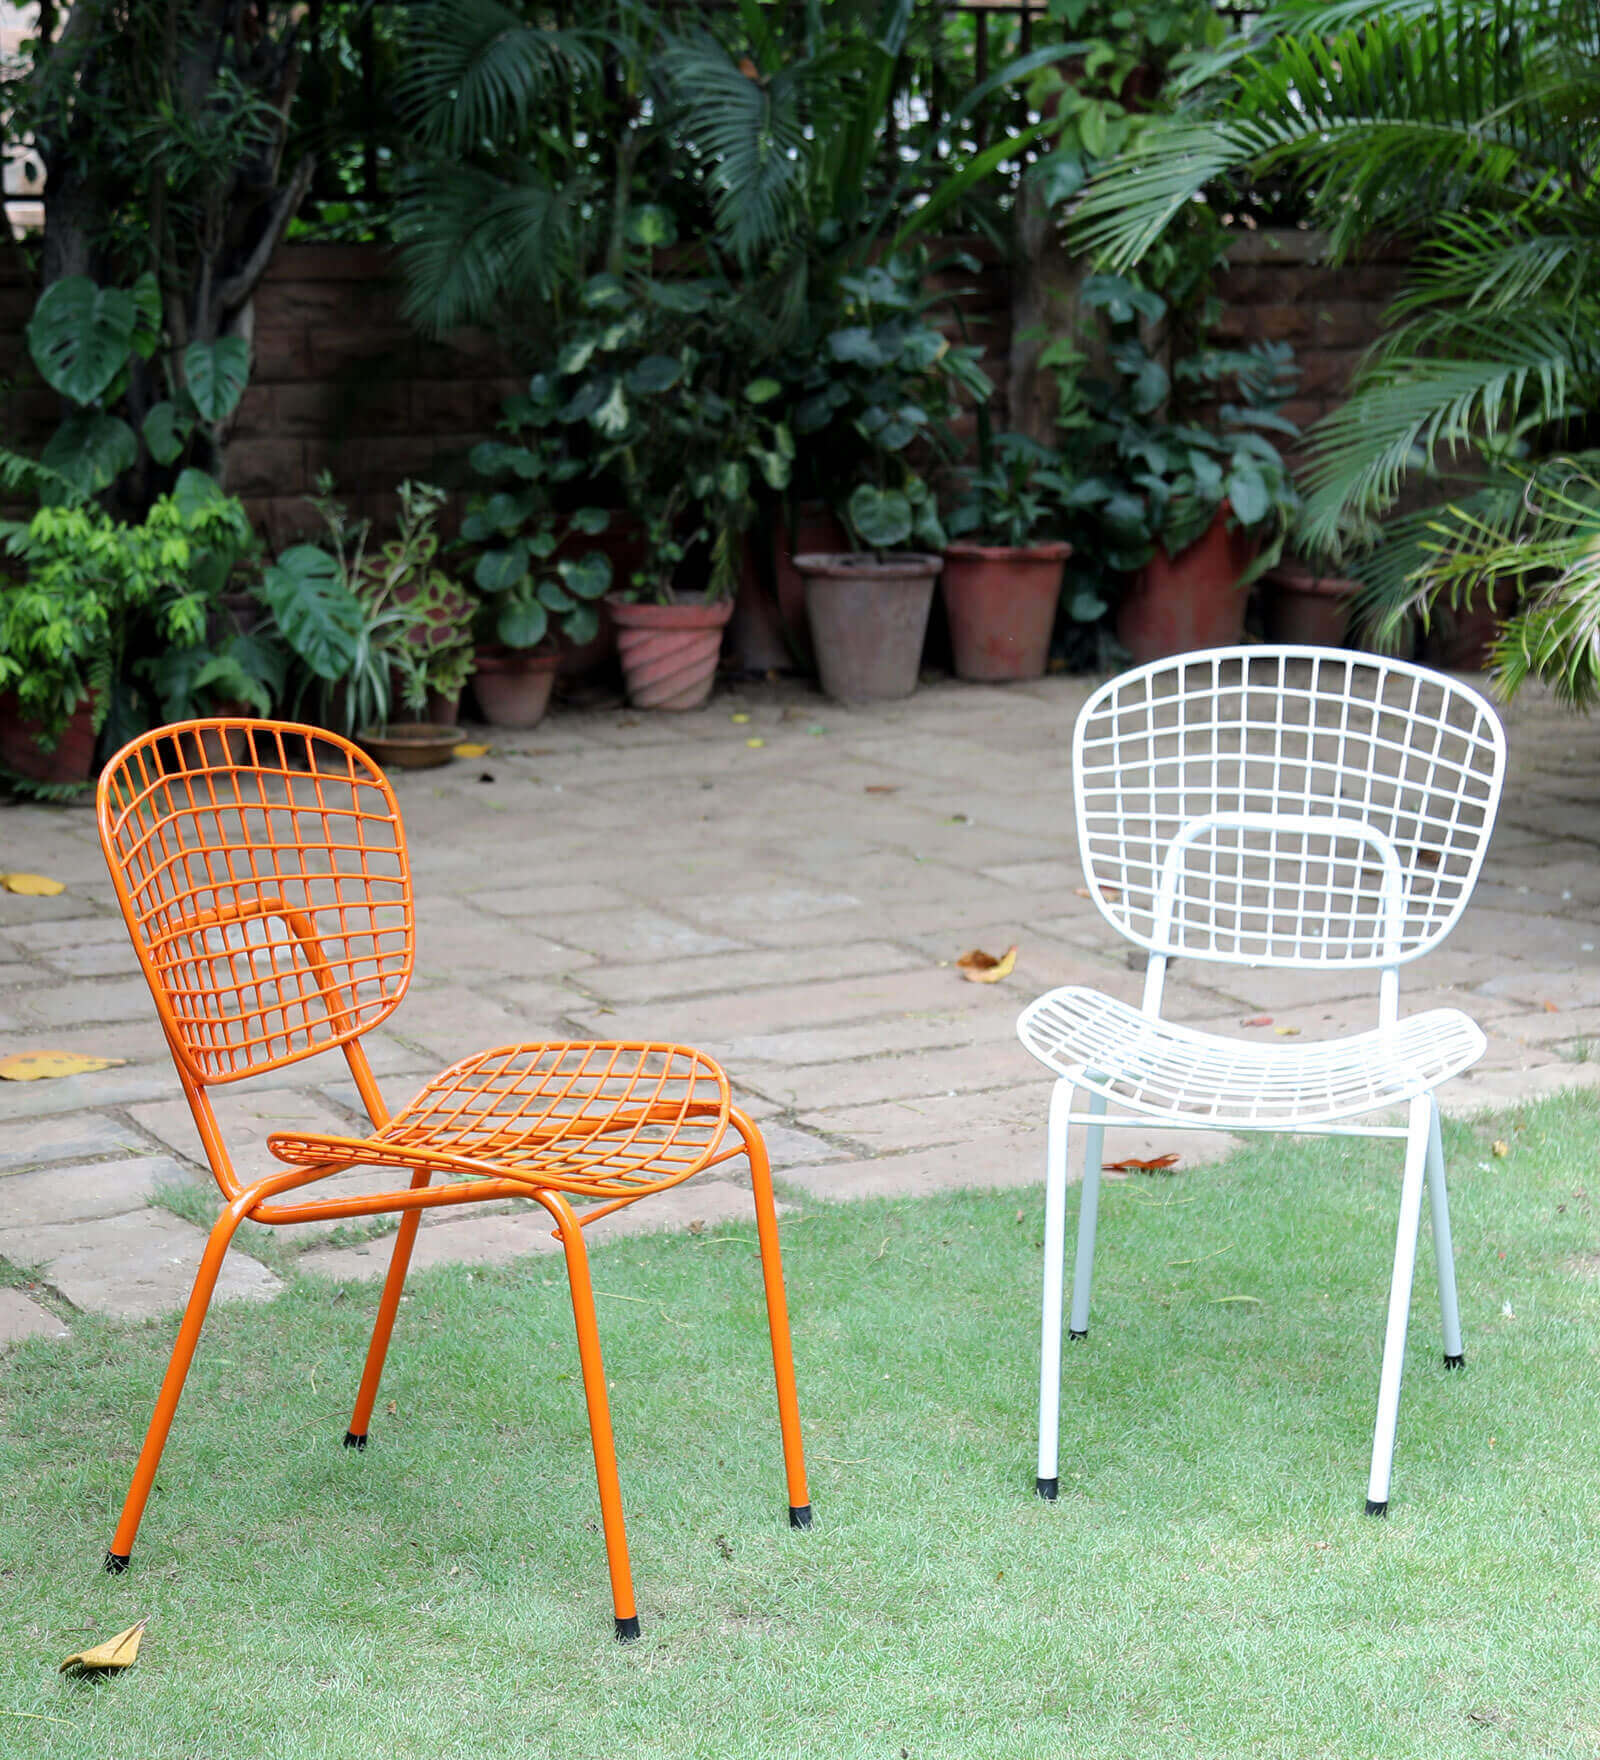Annette Metal Chair in Orange Color by Bohemiana: (70, 682, 857, 1693)
